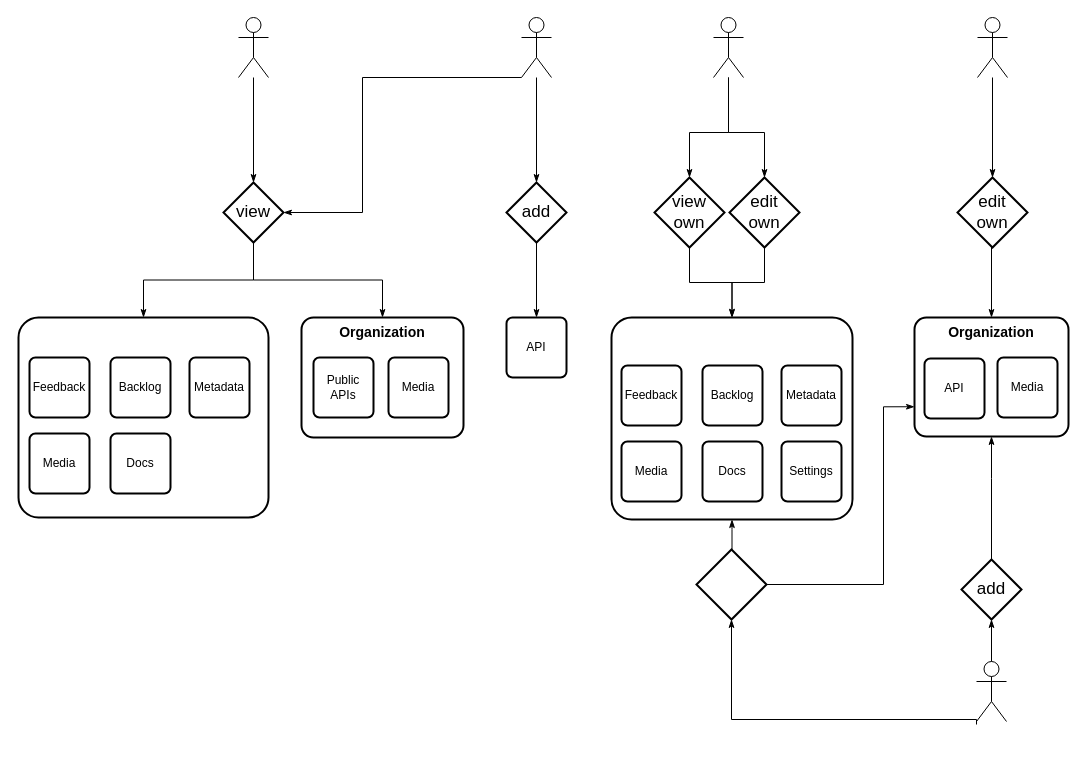
The diagram is 1086 pixels wide and 775 high, and some of its shapes have lost their labels. The shapes that lost their labels are listed below. From the top down, each one's box as (x1, y1, x2, y2) in pixels, then its label:
(238, 16, 268, 78): Anonymous User
(520, 16, 552, 78): Authenticated User
(712, 16, 744, 78): API Manager
(976, 16, 1008, 78): Organization Manager
(17, 316, 269, 518): Public API
(610, 316, 853, 520): API (public or private)
(695, 548, 767, 620): edit any
(976, 660, 1006, 722): Admin User
